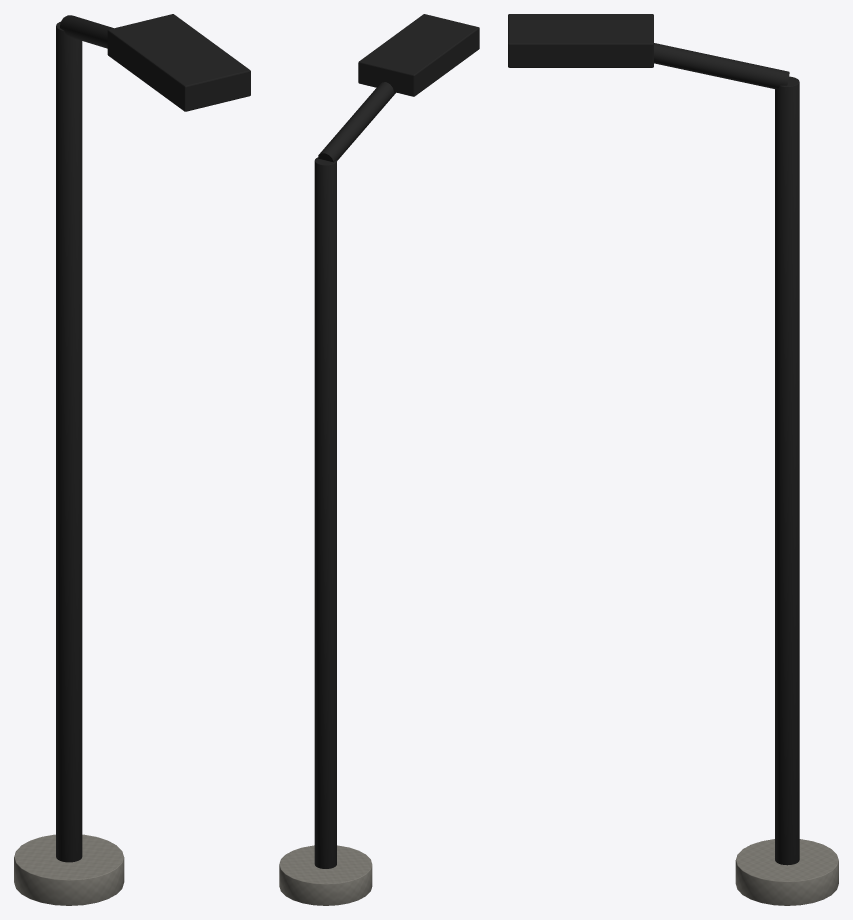
The model's file is OAA_Parking_LampPost.fbx.
3 views of the same model, side by side, from view 1: azimuth 30°, elevation 25°; view 2: azimuth 150°, elevation 25°; view 3: azimuth 270°, elevation 25° (orthographic). The views are drawn at different scales.
Visible parts, largest first — view 1: Body; view 2: Body; view 3: Body.
Boxes of the visible parts, x1=… form: Body: x1=14, y1=14, x2=250, y2=905; Body: x1=279, y1=14, x2=479, y2=905; Body: x1=508, y1=14, x2=838, y2=905.
Size of the model in its own units: 0.46 by 4.21 by 1.47.
